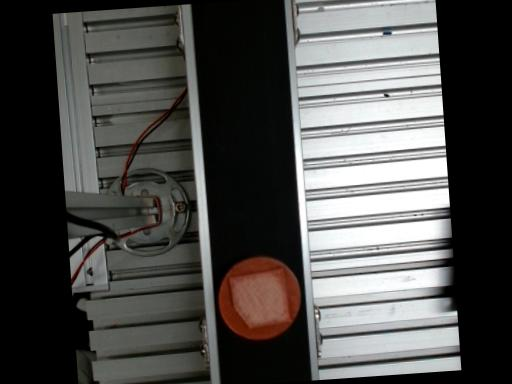Brown_Waper: (217, 257, 299, 340)
Not_Square: (226, 267, 290, 330)
